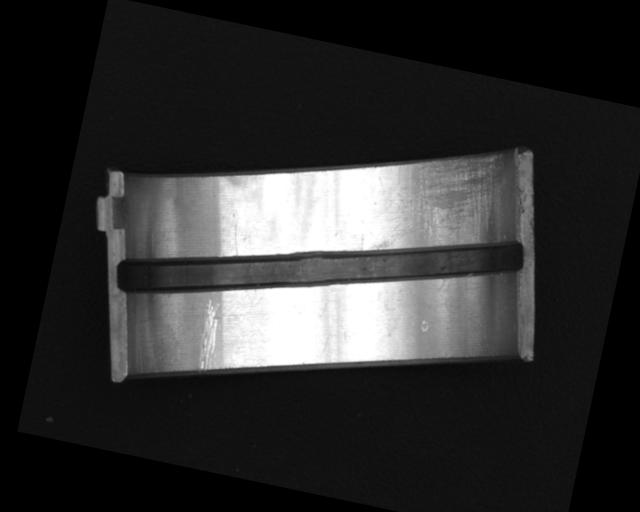bruise: (418, 319, 430, 333)
gap: (110, 161, 527, 371)
nick: (191, 296, 225, 374), (222, 211, 246, 258)
scratch: (367, 129, 516, 276)
